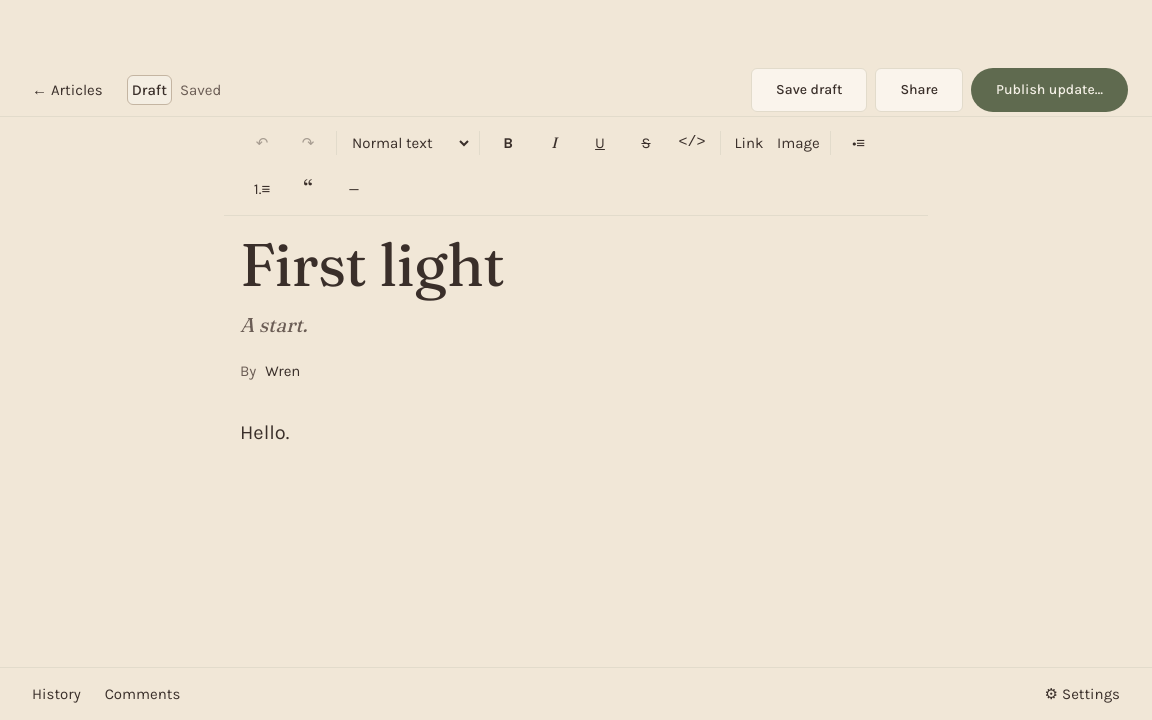
Test case: saving › the first save of an edit to a published article says a new draft was made
The width and height of the screenshot is (1152, 720).
Replace the text in the 1st text box named "Title" with "Edited": (576, 267) [240,232,912,301]
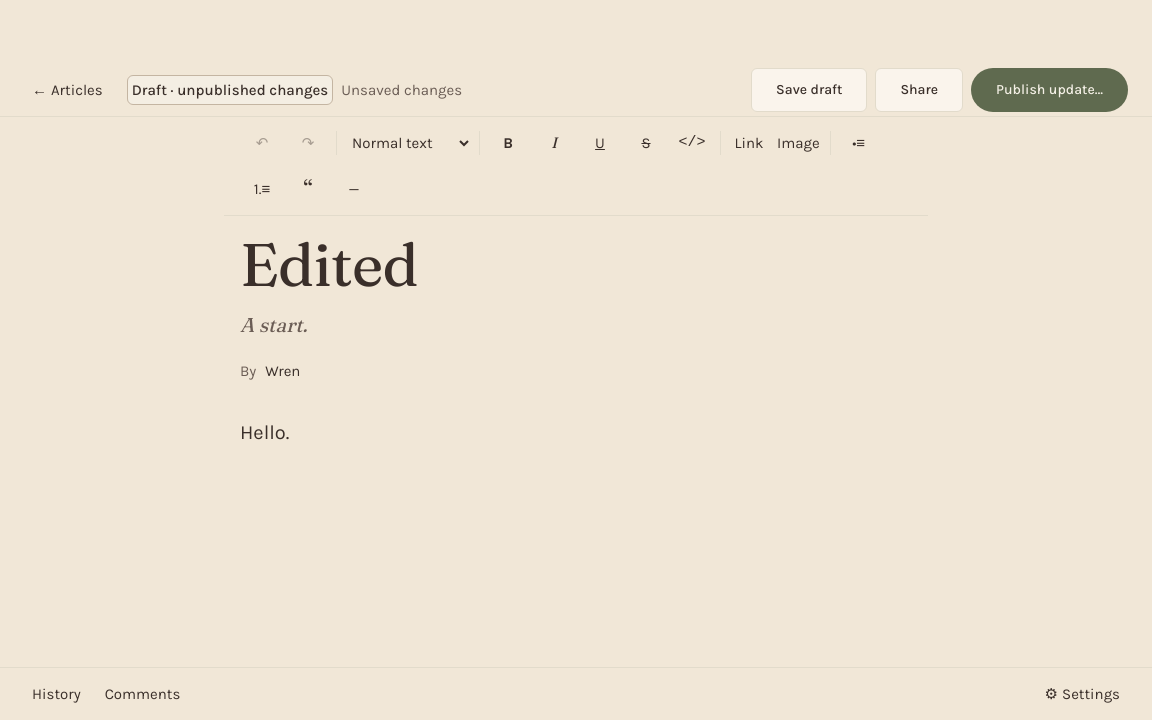
Click the button "Save draft": (809, 90) [751,68,867,112]
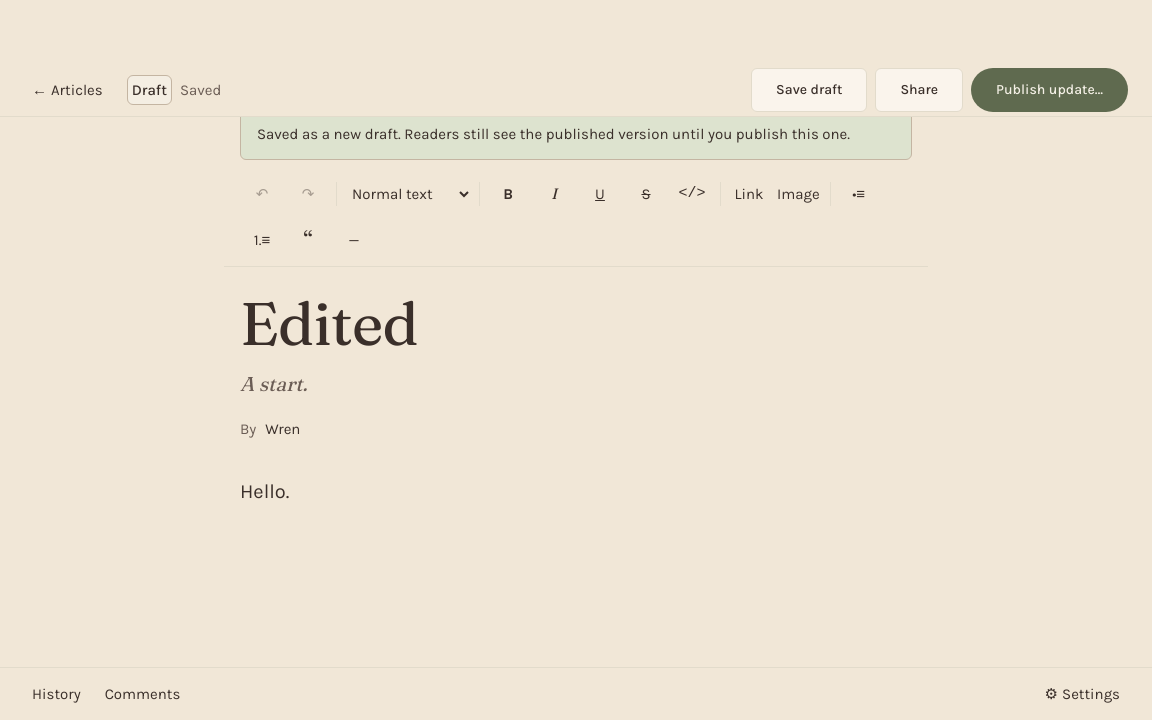
Expected: the form named "revisionId" holds "r2", [224,168,928,503]
Now the text "Saved as a new draft" is shown, box [257,125,850,143]
